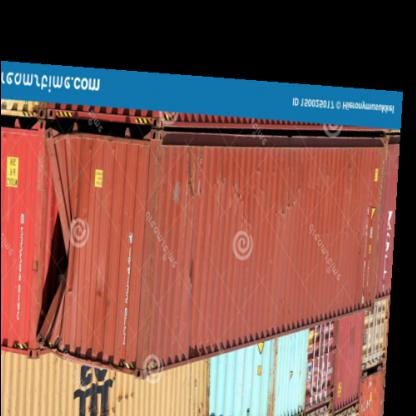Damage: (26, 205, 81, 347)
